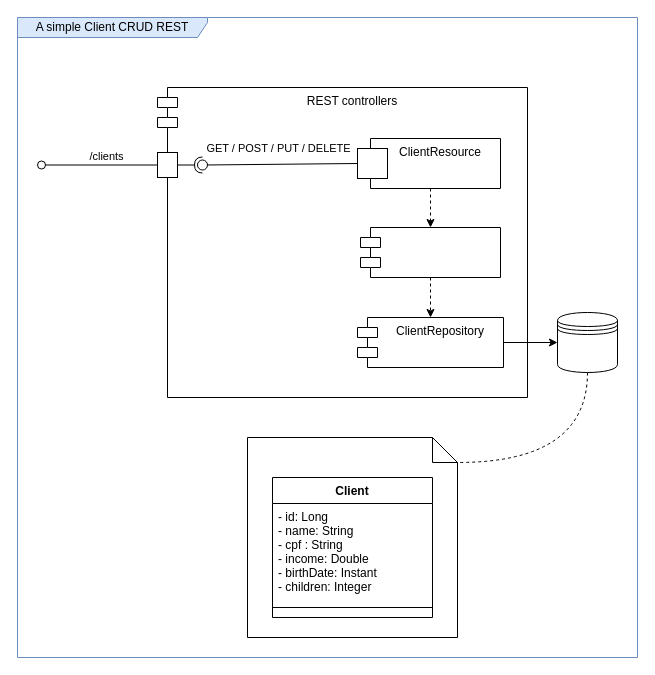
This 655x675 diagram has some shape labels left out. The centre of each missing label's shape, as x and y in pixels:
ClientService: (430,252)
DB (H2): (587,342)
